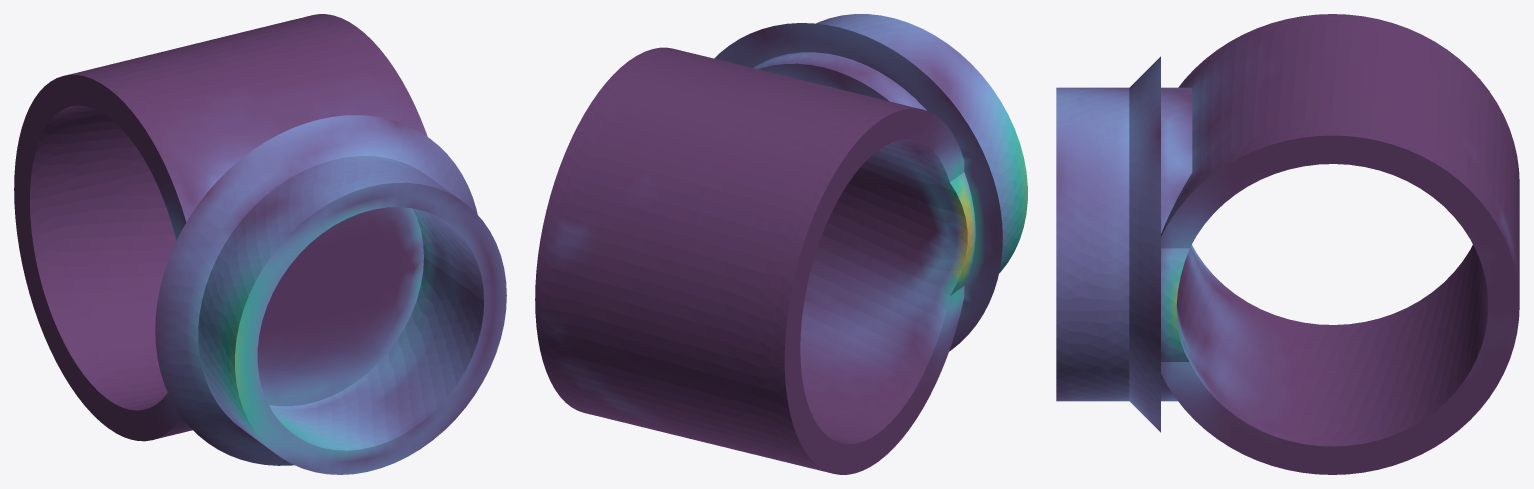
File: P7_pylon_saddle.glb
3 renders of one model, left to right at view 1: azimuth 30°, elevation 25°; view 2: azimuth 150°, elevation 25°; view 3: azimuth 270°, elevation 25°, orthographic.
Visible parts, largest first — view 1: geometry_0; view 2: geometry_0; view 3: geometry_0.
Part boxes in pixels (x1,y1,x2,y2): geometry_0: [14, 14, 506, 474]; geometry_0: [535, 14, 1027, 474]; geometry_0: [1056, 14, 1519, 474].
Size of the model in its own units: 0.144 by 0.144 by 0.1773.
